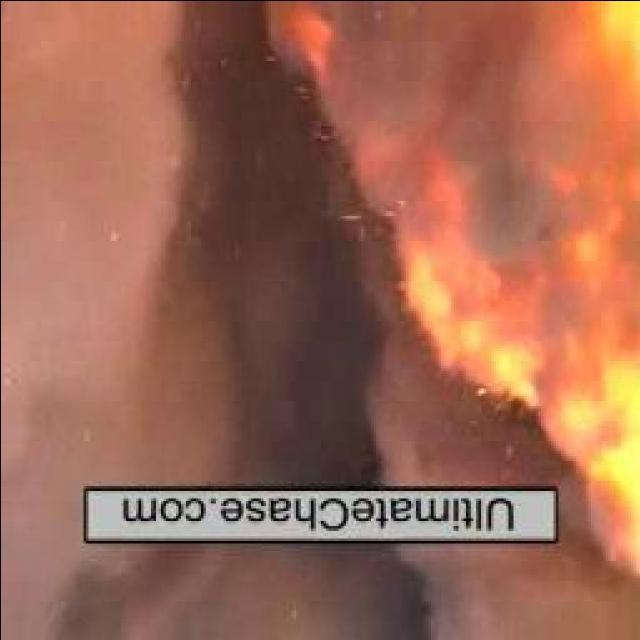Fire: (501, 0, 640, 578)
